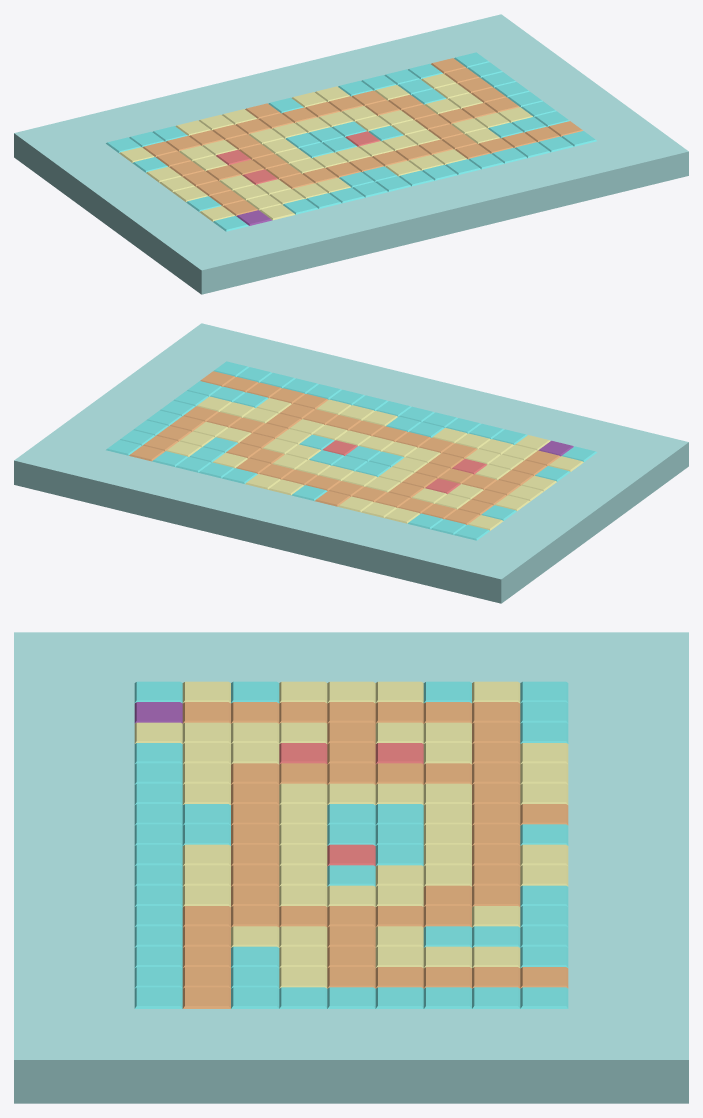
File: Gameplay_FloorUpdate.fbx
The picture shows the model from 3 angles, top to bottom: view 1: azimuth 30°, elevation 25°; view 2: azimuth 150°, elevation 25°; view 3: azimuth 270°, elevation 25°; orthographic projection. The views are drawn at different scales.
Visible parts, largest first — view 1: Gameplay_Floor; view 2: Gameplay_Floor; view 3: Gameplay_Floor.
Boxes of the visible parts, x1,y1,x2,y2 form: Gameplay_Floor: [14, 14, 688, 294]; Gameplay_Floor: [14, 323, 688, 603]; Gameplay_Floor: [14, 632, 688, 1103].
Bounding box in the file's own units: 21 × 1.05 × 14.
